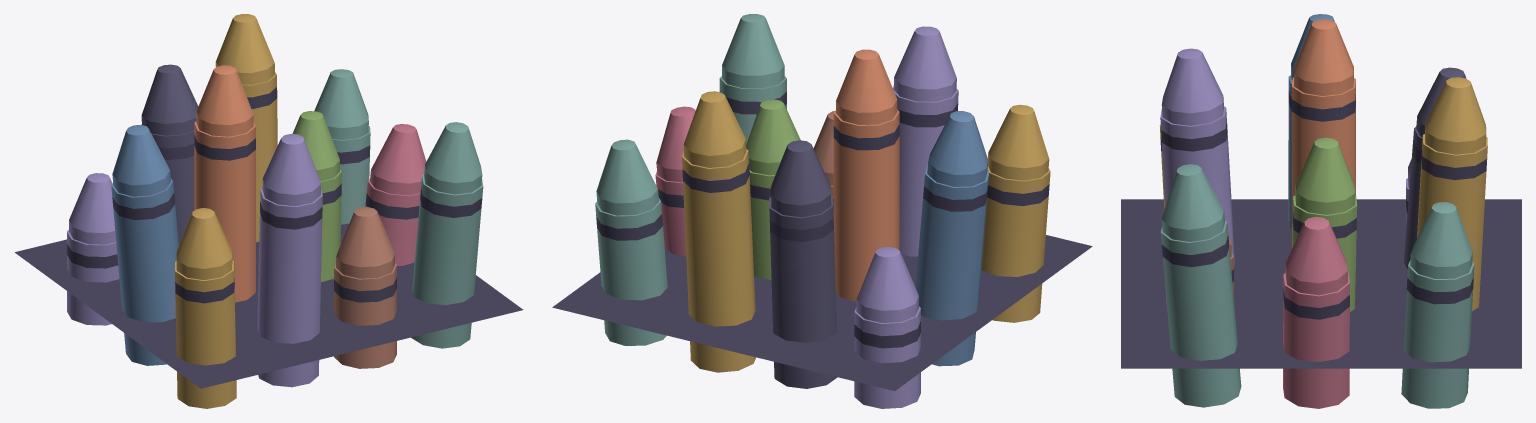
The model's file is prop_crayon_cluster.glb.
3 views of the same model, side by side, from view 1: azimuth 30°, elevation 25°; view 2: azimuth 150°, elevation 25°; view 3: azimuth 270°, elevation 25° (orthographic). The views are drawn at different scales.
Parts seen in each view (by area): view 1: CrayonClusterMesh; view 2: CrayonClusterMesh; view 3: CrayonClusterMesh.
Boxes of the visible parts, box(x1,y1,x2,y2) form: CrayonClusterMesh: box(15, 14, 523, 408); CrayonClusterMesh: box(552, 14, 1092, 408); CrayonClusterMesh: box(1121, 14, 1521, 408).
Size of the model in its own units: 2.2 by 1.75 by 2.2.
